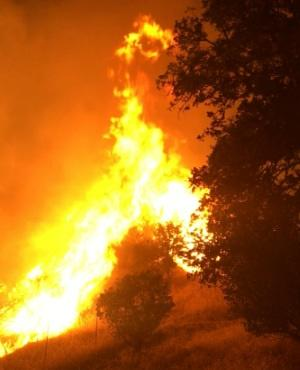fire: (114, 19, 172, 239), (0, 251, 139, 313)
